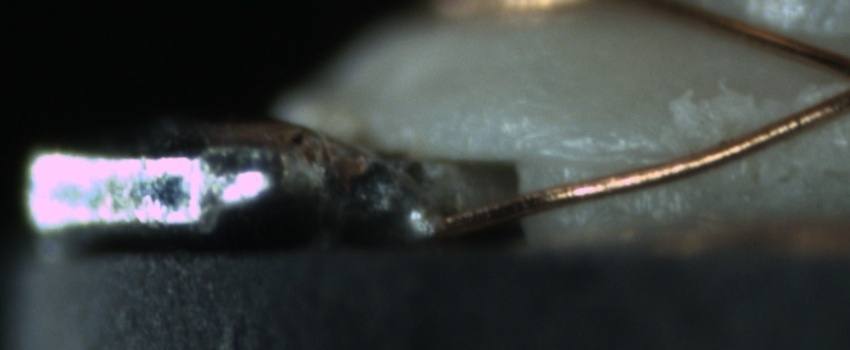DL: (540, 126, 676, 186)
